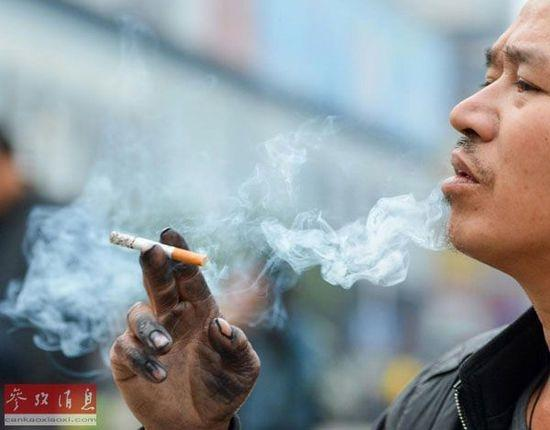Cigarette: (108, 230, 209, 266)
Smoke: (1, 129, 453, 359)
